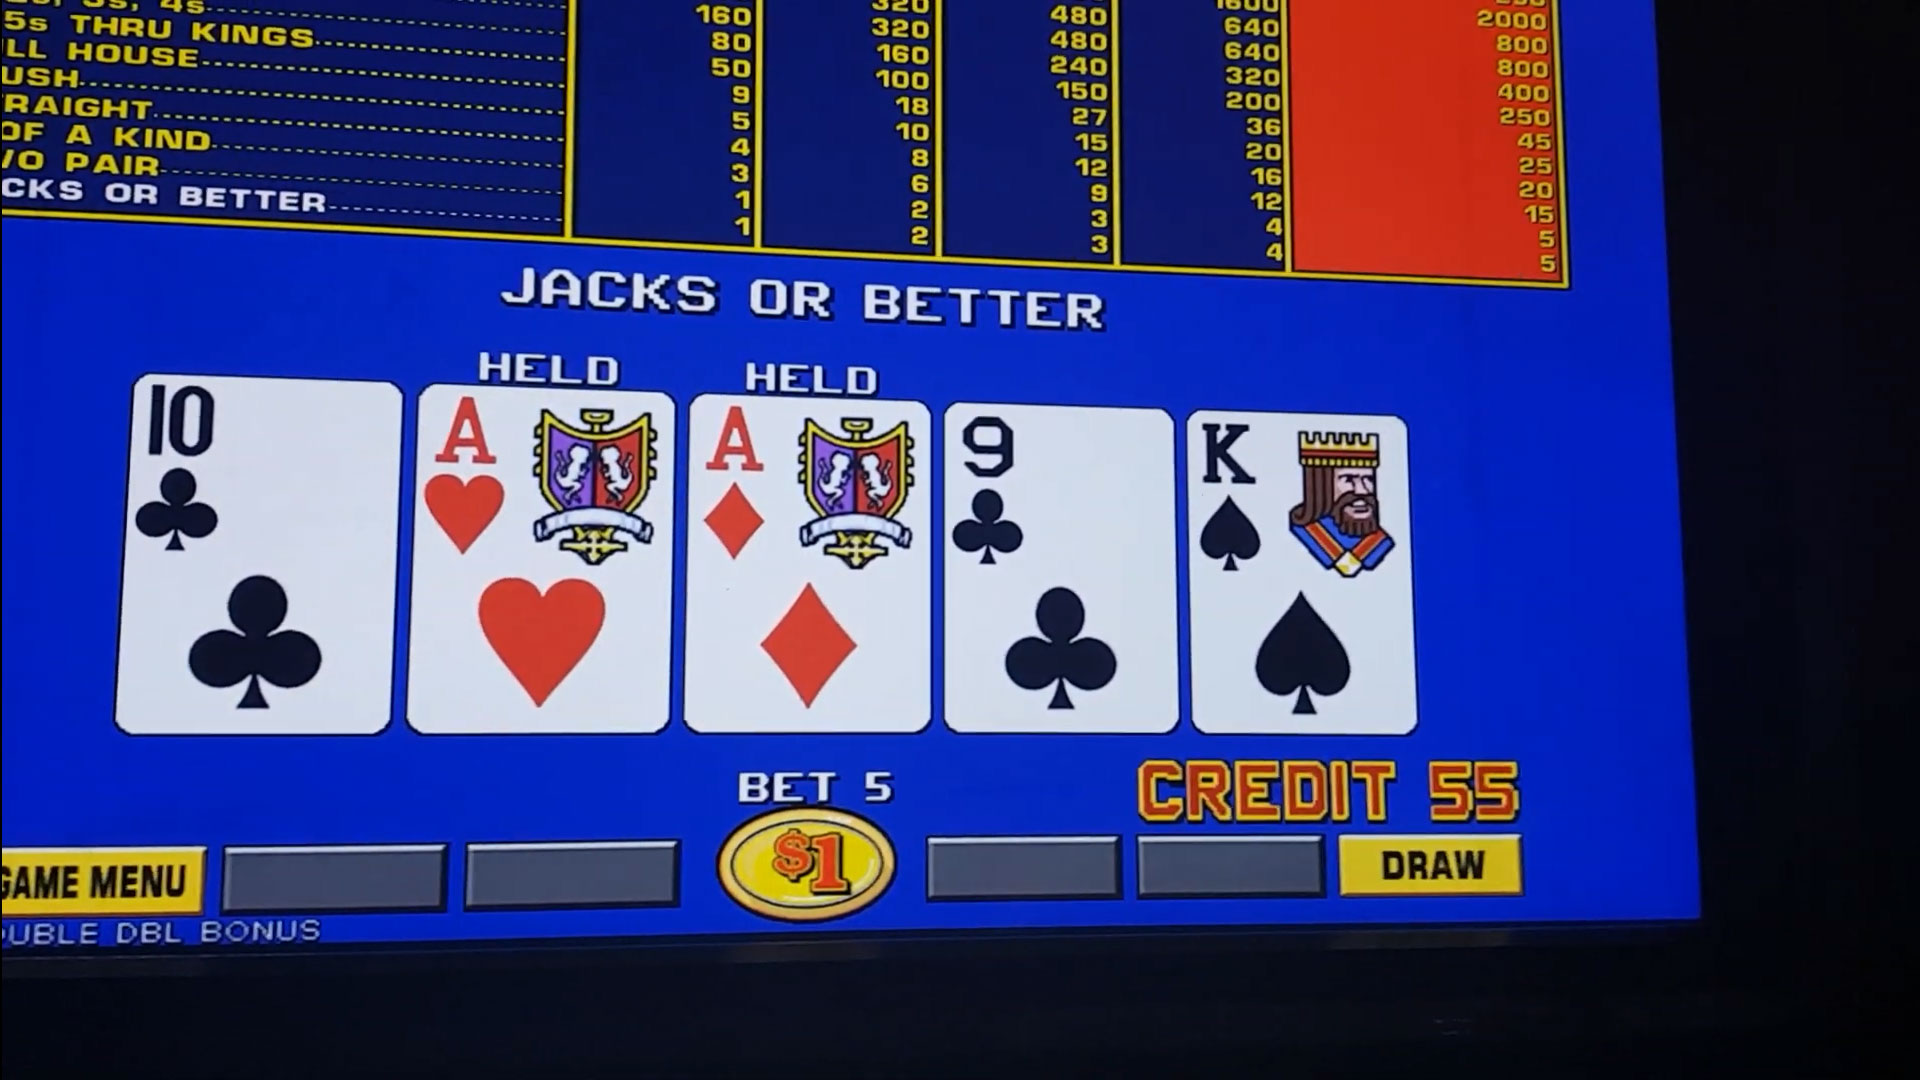C9: (947, 414, 1171, 580)
CT: (140, 384, 390, 564)
DA: (695, 405, 928, 574)
HA: (425, 392, 676, 571)
SK: (1192, 415, 1404, 585)
